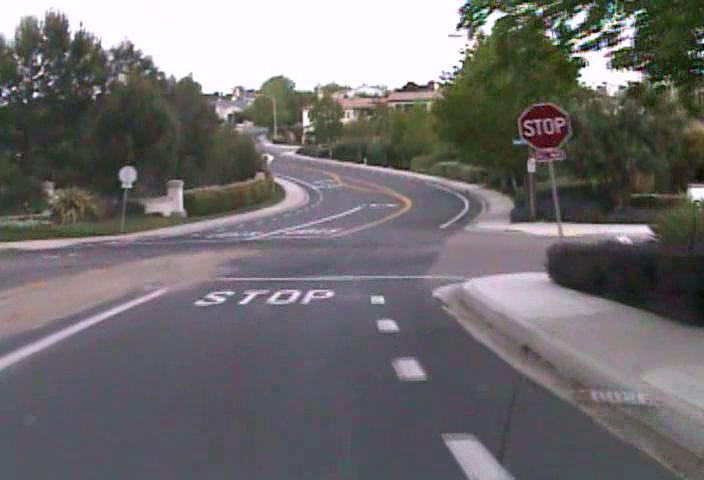stop: (518, 102, 572, 151)
